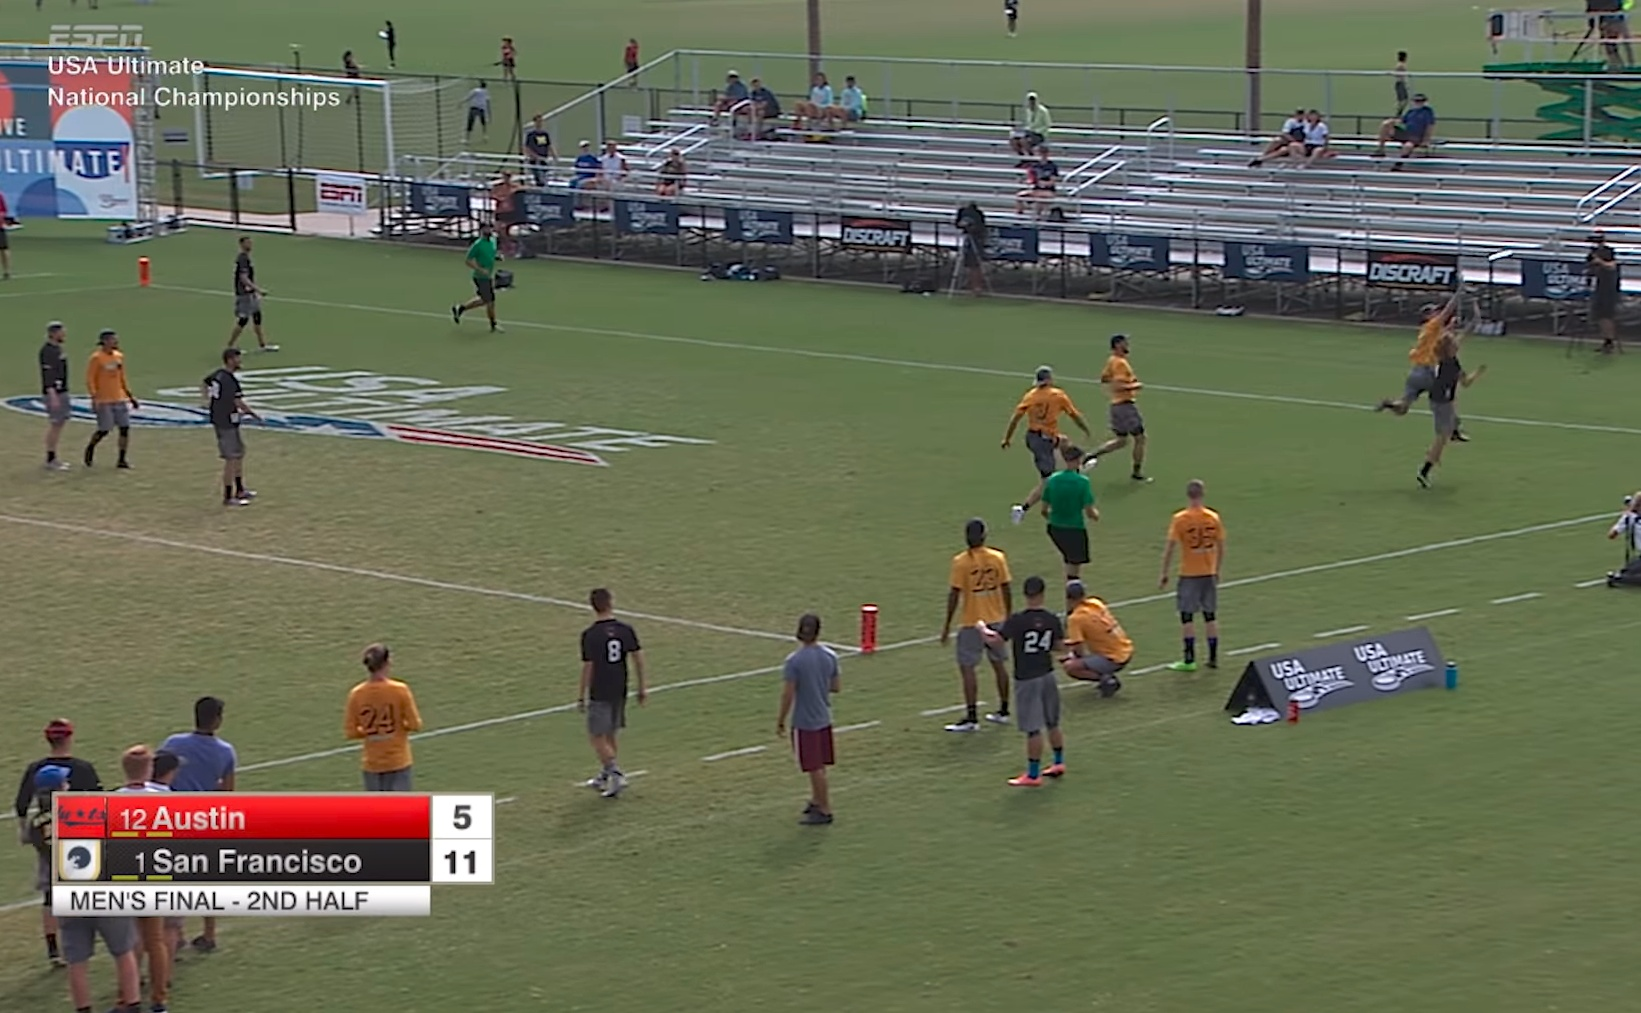frisbee: (1487, 249, 1513, 261)
